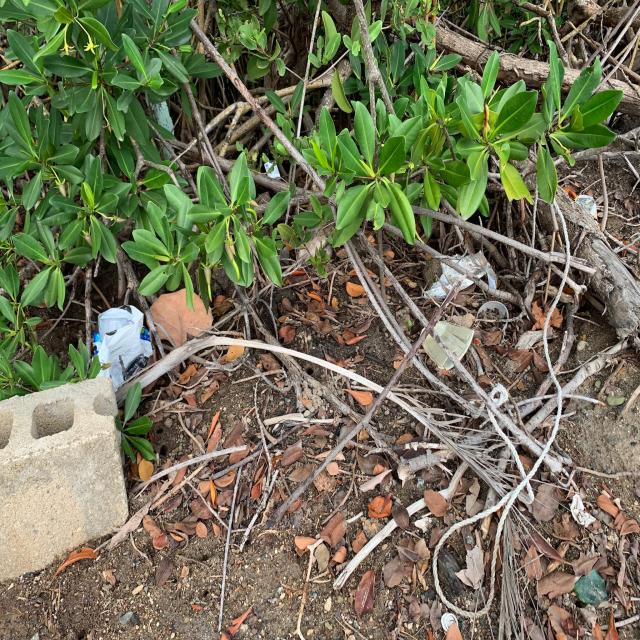litter: (431, 199, 571, 619), (90, 302, 155, 391), (424, 249, 498, 300), (421, 320, 474, 368), (476, 301, 509, 335), (569, 494, 599, 528), (572, 194, 596, 215), (263, 159, 282, 180), (440, 613, 458, 632)
